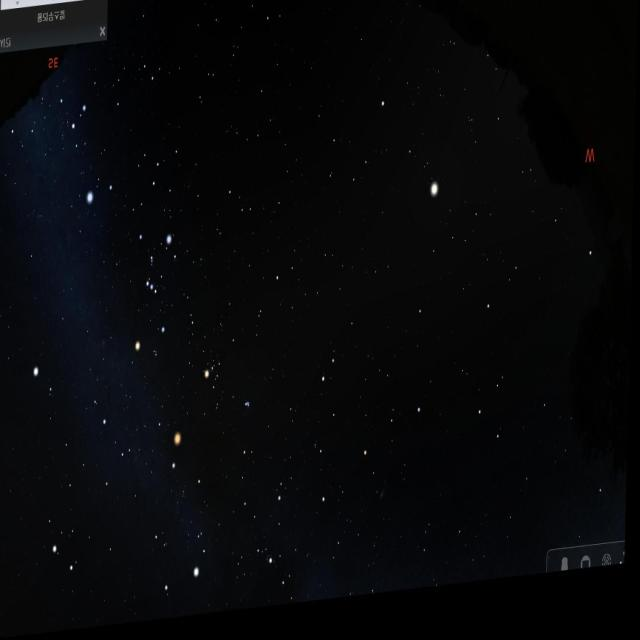canis_major: (67, 84, 125, 207)
canis_minor: (33, 348, 68, 408)
gemini: (51, 414, 150, 597)
orion: (134, 221, 176, 361)
pleiades: (244, 400, 256, 423)
taurus: (197, 328, 261, 435)
